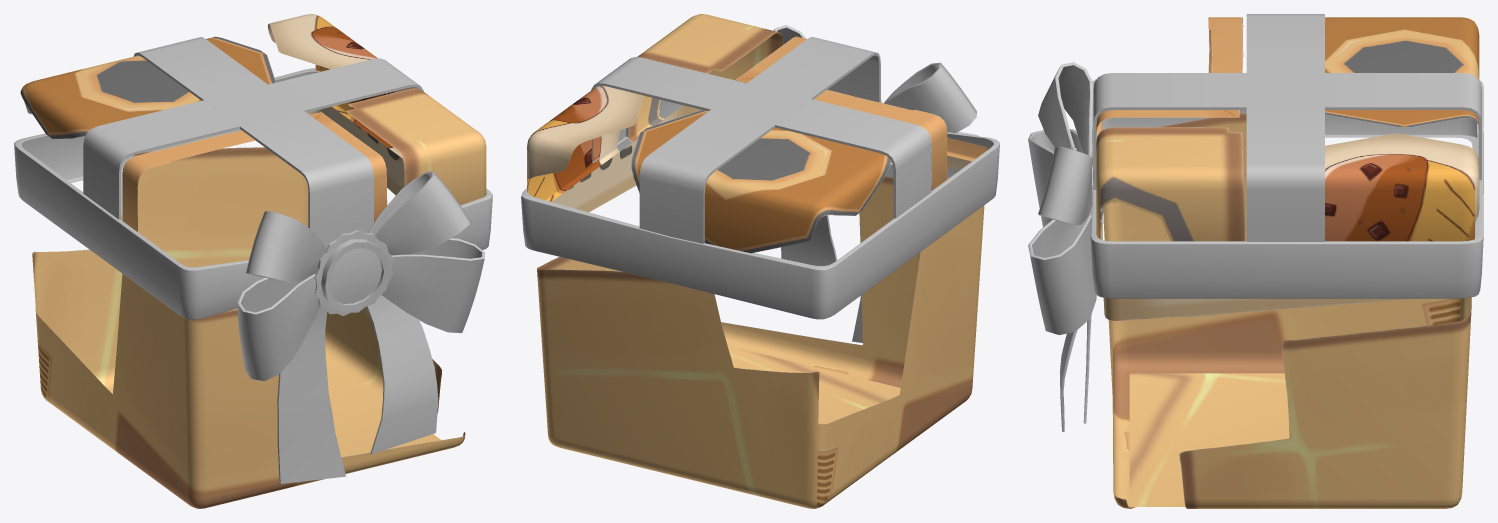
File: 랜덤블럭.fbx
3 renders of one model, left to right at view 1: azimuth 30°, elevation 25°; view 2: azimuth 150°, elevation 25°; view 3: azimuth 270°, elevation 25°, orthographic. The views are drawn at different scales.
Parts seen in each view (by area): view 1: Object025, Box017; view 2: Object025, Box017; view 3: Object025, Box017.
Part boxes in pixels (x1,y1,x2,y2): Object025: [20, 14, 486, 508]; Box017: [14, 37, 492, 483]; Object025: [527, 14, 988, 508]; Box017: [521, 25, 999, 342]; Object025: [1096, 17, 1479, 508]; Box017: [1028, 14, 1483, 431].
Bounding box in the file's own units: 103 × 101 × 119.
